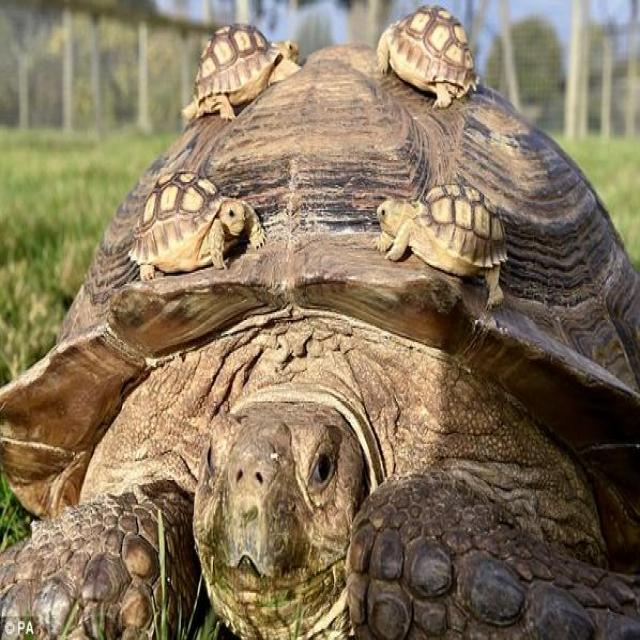Turtle: (386, 186, 512, 296), (138, 167, 260, 278), (185, 11, 304, 124), (369, 12, 472, 114)
